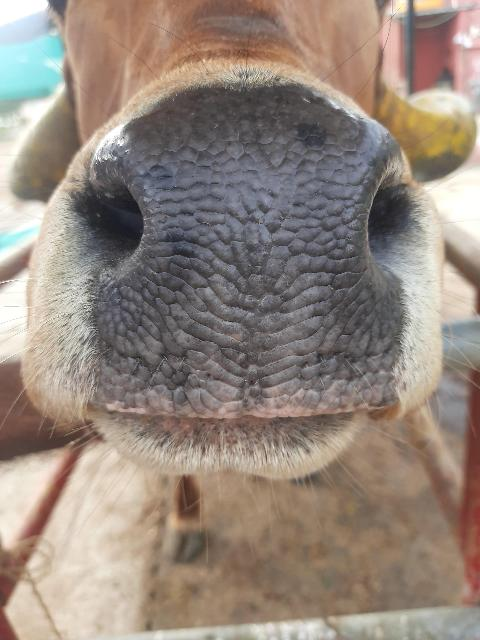Muzzle: (113, 121, 386, 409)
